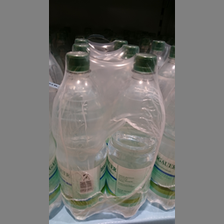water: (101, 52, 165, 218), (52, 50, 107, 220)
